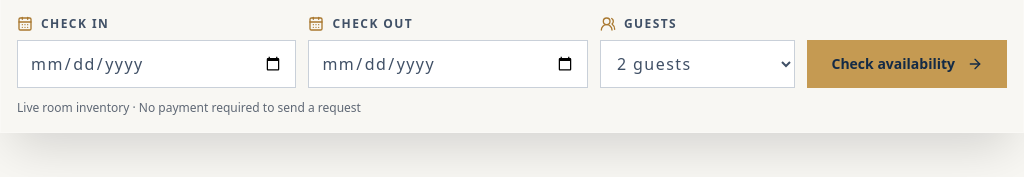
it: HeroAvailabilityForm › explains incomplete and reversed dates without navigating
Click the button "Check availability" at (907, 64), box [808,40,1007,88]
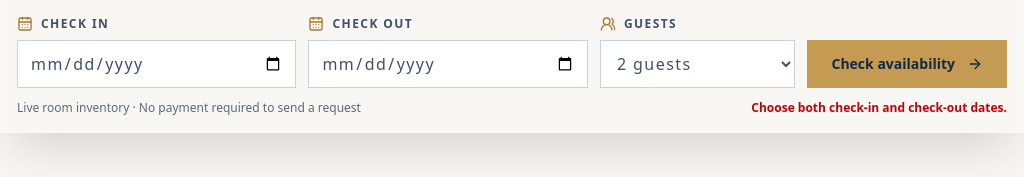
Expected: the message reads "Choose both check-in and check-out dates.", [751,99,1007,116]
Type "2099-10-20" into the date field labelled "Check in" at (157, 64), box [17,40,296,88]
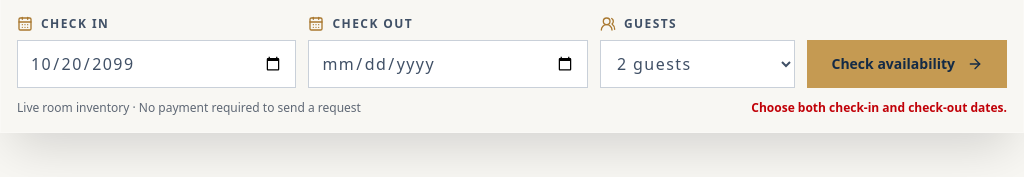
Type "2099-10-19" into the date field labelled "Check out" at (448, 64), box [308,40,588,88]
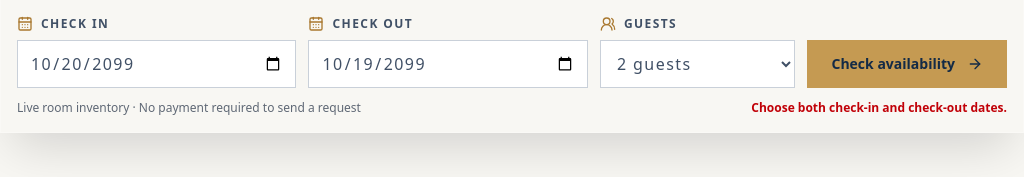
Click the button "Check availability" at (907, 64), box [808,40,1007,88]
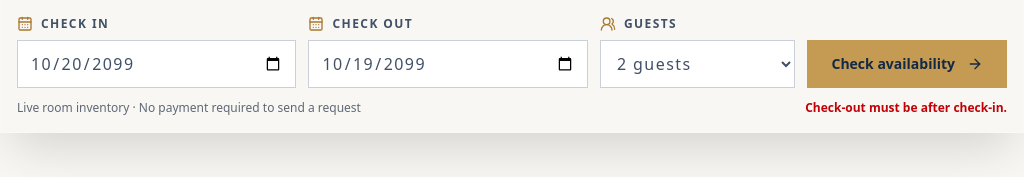
Expected: the message reads "Check-out must be after check-in.", [805,99,1007,116]
